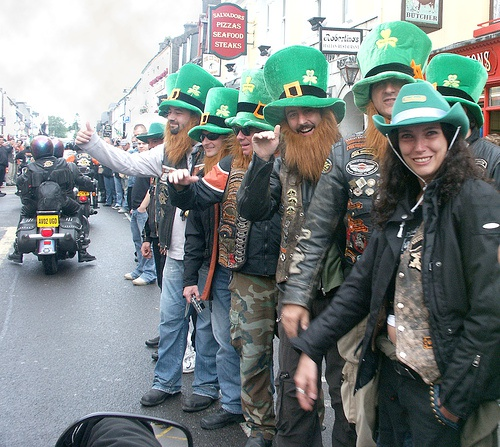non-vehicle: (19, 209, 85, 274), (73, 171, 98, 218)
